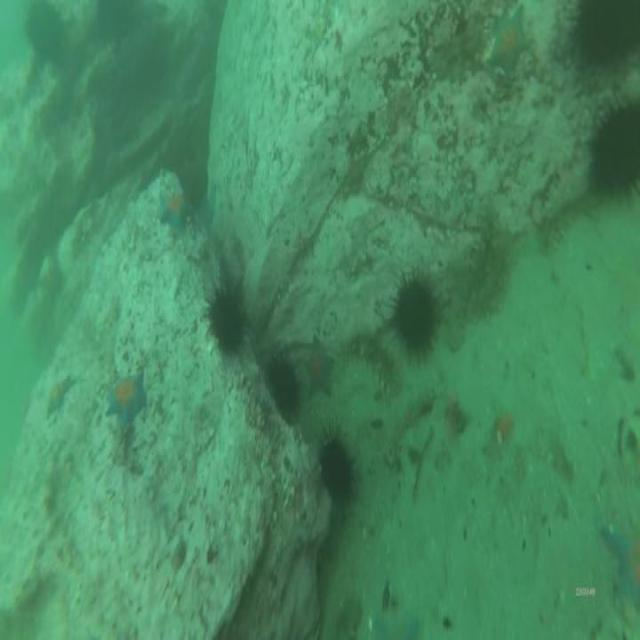echinus: (594, 99, 640, 204), (574, 0, 640, 73), (392, 276, 437, 361), (210, 294, 244, 354), (319, 436, 352, 495), (267, 357, 301, 414)
holothurian: (464, 196, 510, 314), (432, 266, 467, 350), (346, 335, 394, 395)
starfish: (605, 523, 640, 605), (486, 13, 529, 71), (106, 378, 148, 425), (304, 341, 333, 395), (159, 193, 193, 234), (46, 381, 73, 412)
